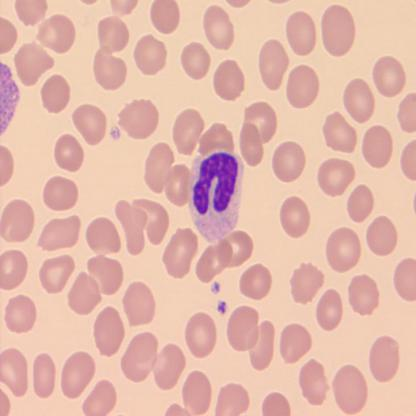Band Neutrophil: (187, 146, 246, 246)
